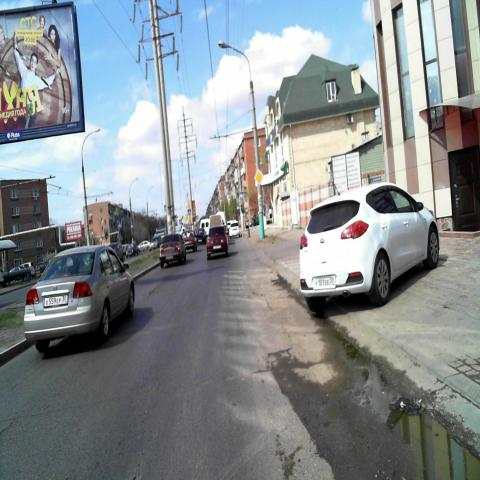2_1: (254, 168, 263, 186)
